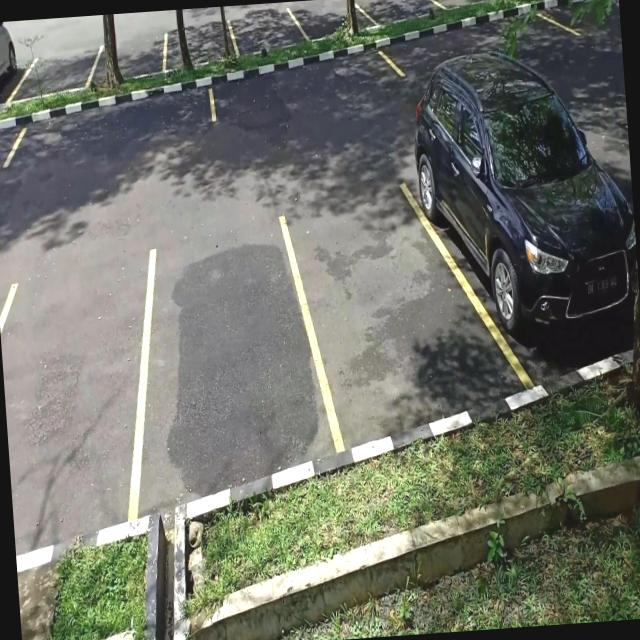car: (404, 94, 640, 353)
free: (276, 187, 532, 450), (135, 207, 341, 513), (11, 244, 151, 550), (10, 91, 219, 179), (207, 45, 407, 129)
